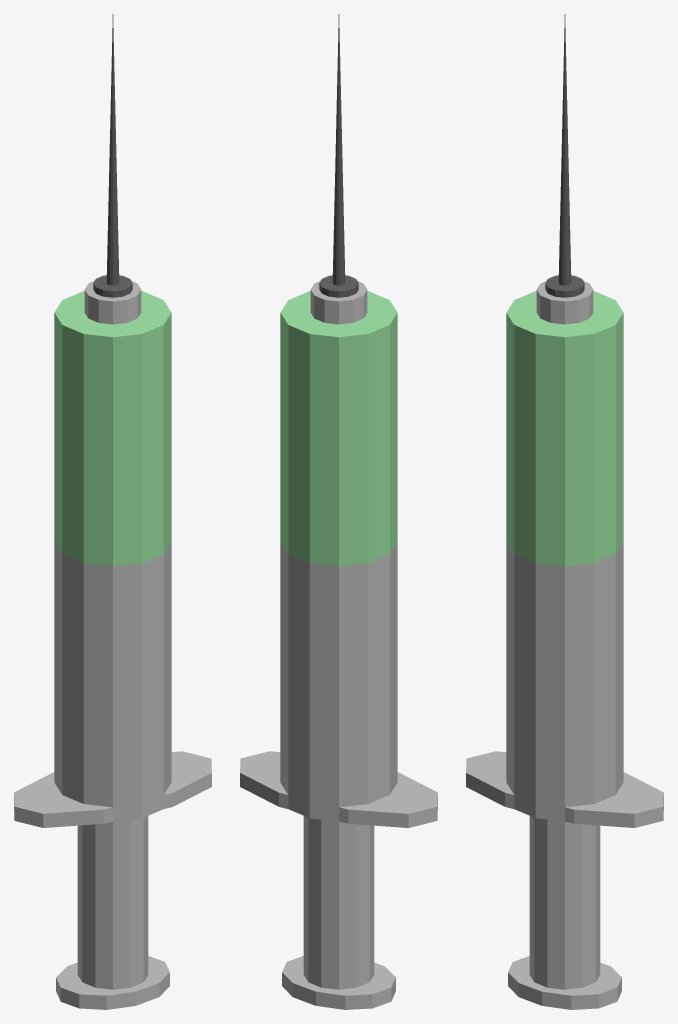
File: vol_syringe.fbx
The picture shows the model from 3 angles, left to right: view 1: azimuth 30°, elevation 25°; view 2: azimuth 150°, elevation 25°; view 3: azimuth 330°, elevation 25°; orthographic projection.
Parts seen in each view (by area): view 1: Cylinder.009; view 2: Cylinder.009; view 3: Cylinder.009.
Part boxes in pixels (x1=…): Cylinder.009: x1=14, y1=14, x2=211, y2=1009; Cylinder.009: x1=240, y1=14, x2=437, y2=1009; Cylinder.009: x1=466, y1=14, x2=663, y2=1009.
Size of the model in its own units: 14.04 by 66.37 by 7.23.
